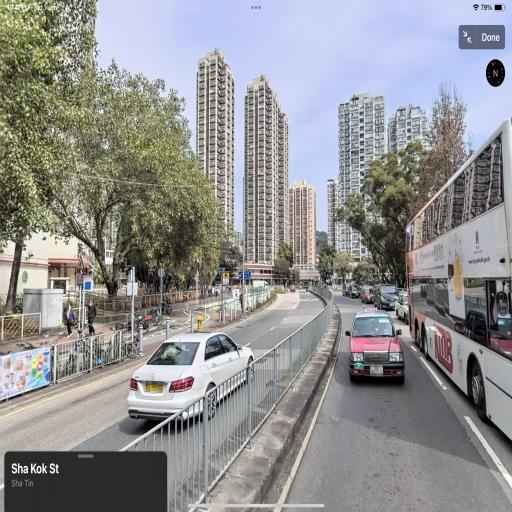Roads: (0, 281, 509, 499)
Trees: (56, 54, 174, 308), (6, 0, 80, 363), (349, 150, 427, 283)
